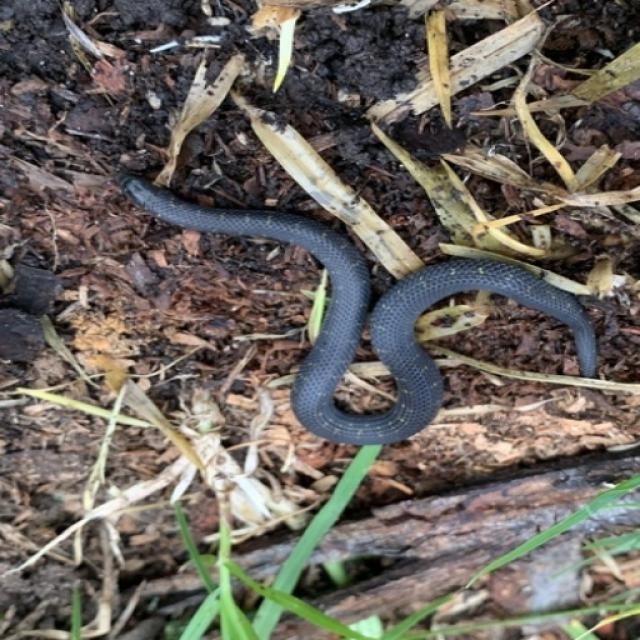snake: (88, 133, 606, 520)
